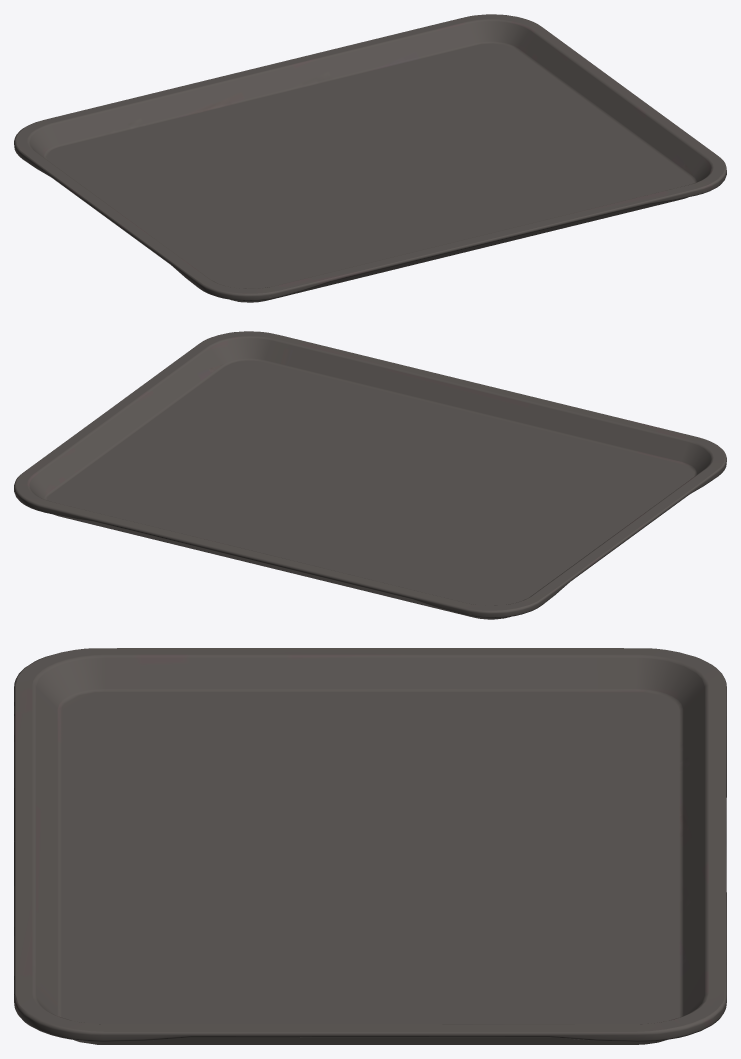
File: TILLGÅNG Plateau, gris, 37x29 cm.glb
3 renders of one model, top to bottom at view 1: azimuth 30°, elevation 25°; view 2: azimuth 150°, elevation 25°; view 3: azimuth 270°, elevation 25°, orthographic. The views are drawn at different scales.
Visible parts, largest first — view 1: model; view 2: model; view 3: model.
Part boxes in pixels (left/top/right/bottom): model: left=14, top=14, right=726, bottom=302; model: left=14, top=331, right=726, bottom=619; model: left=14, top=648, right=726, bottom=1044.
Size of the model in its own units: 0.3681 by 0.015 by 0.288.
1 material, 1 textured.
